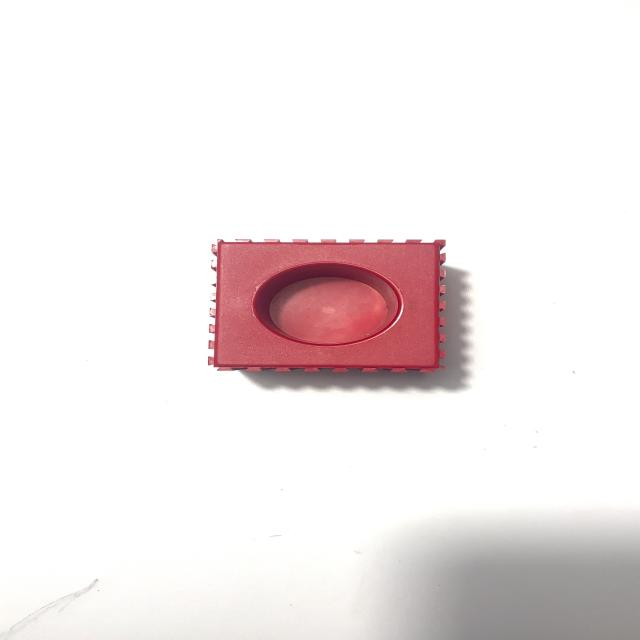Empty_Slot: (208, 240, 444, 372)
